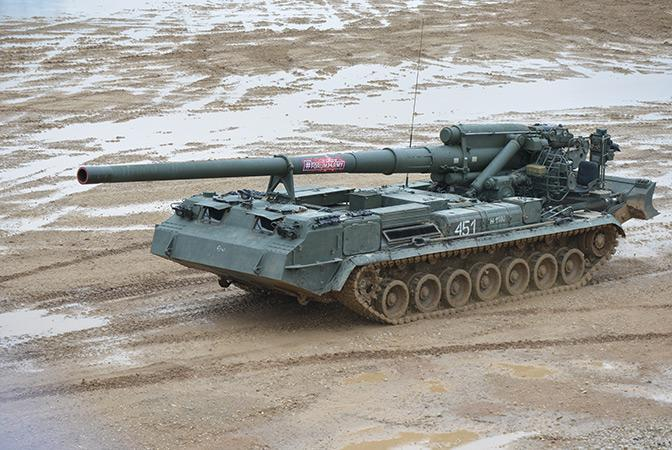sau: (59, 107, 672, 320)
